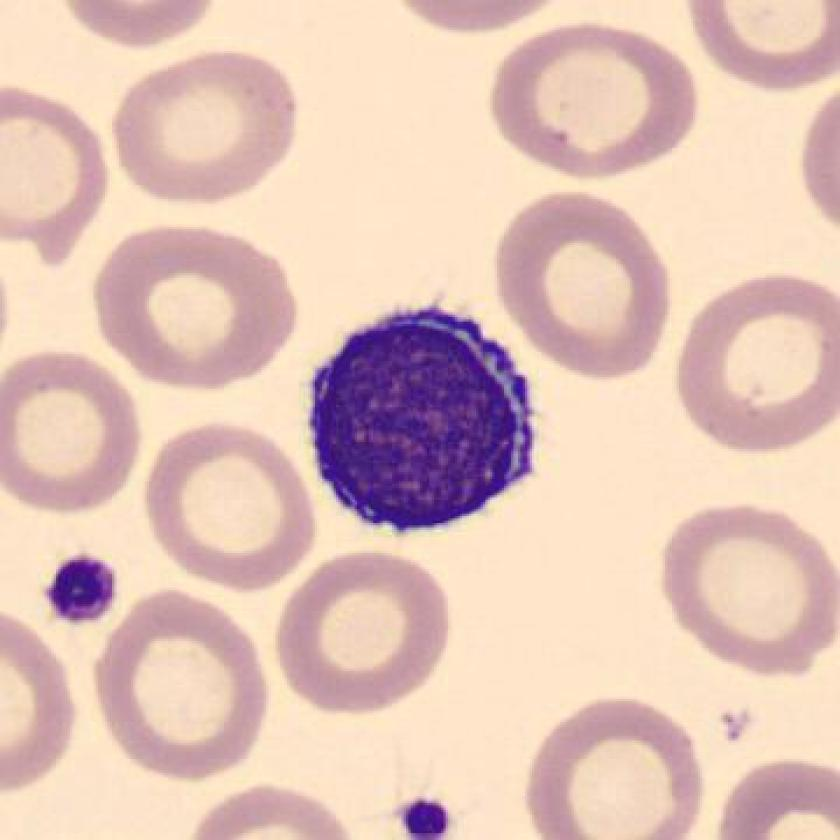lymphocyte: (295, 290, 552, 547)
